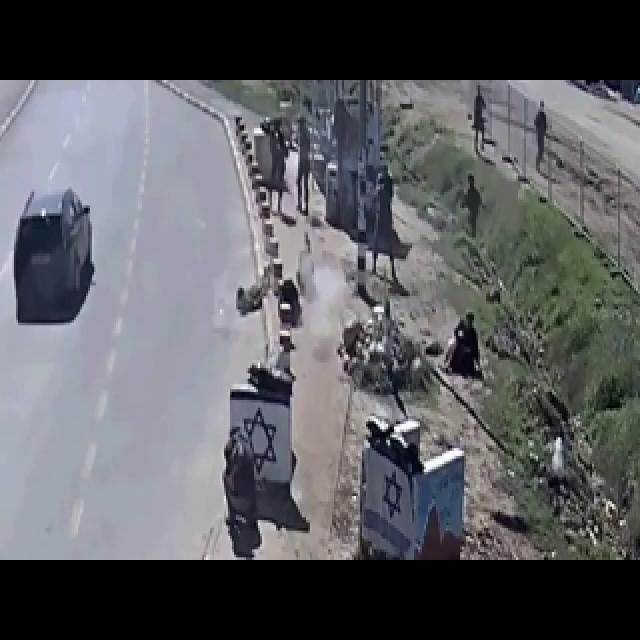shooting: (178, 104, 623, 593)
